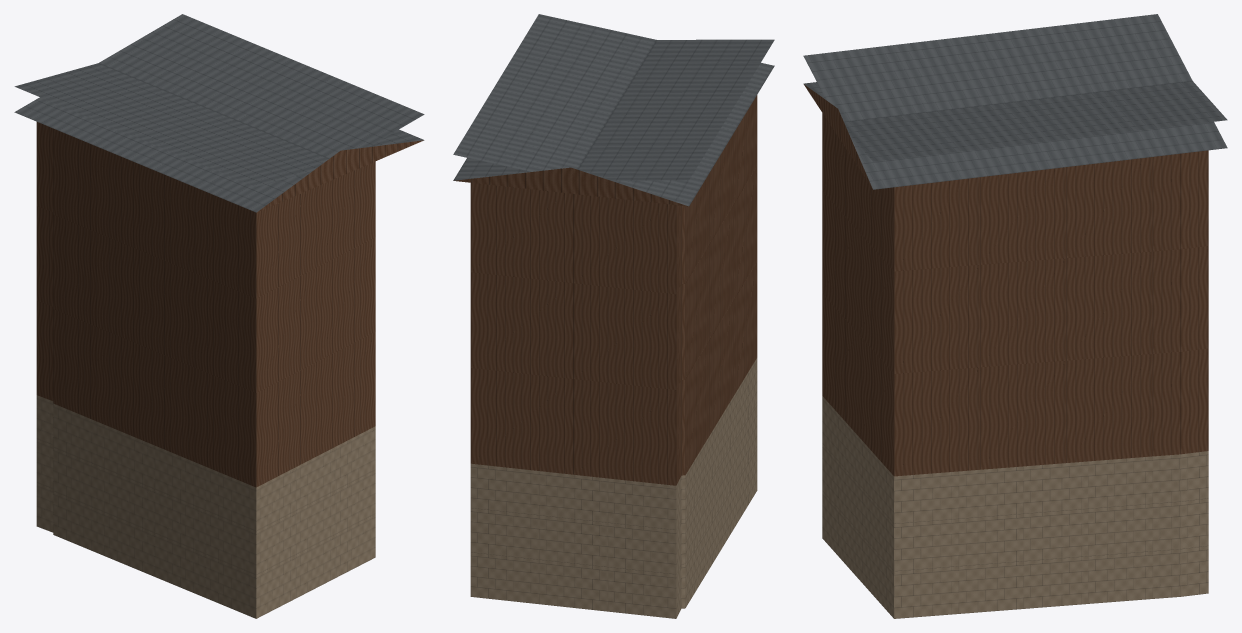
Rendered from bld_c1_-1_538.gltf.
3 views of the same model, side by side, from view 1: azimuth 30°, elevation 25°; view 2: azimuth 150°, elevation 25°; view 3: azimuth 270°, elevation 25° (orthographic). The views are drawn at different scales.
Visible parts, largest first — view 1: bld_c1_-1_538; view 2: bld_c1_-1_538; view 3: bld_c1_-1_538.
Boxes of the visible parts, left/top/right/bottom form: bld_c1_-1_538: left=14, top=14, right=424, bottom=618; bld_c1_-1_538: left=453, top=14, right=774, bottom=618; bld_c1_-1_538: left=803, top=14, right=1227, bottom=618.
Size of the model in its own units: 11.35 by 17.1 by 13.77.
4 materials, 4 textured.
